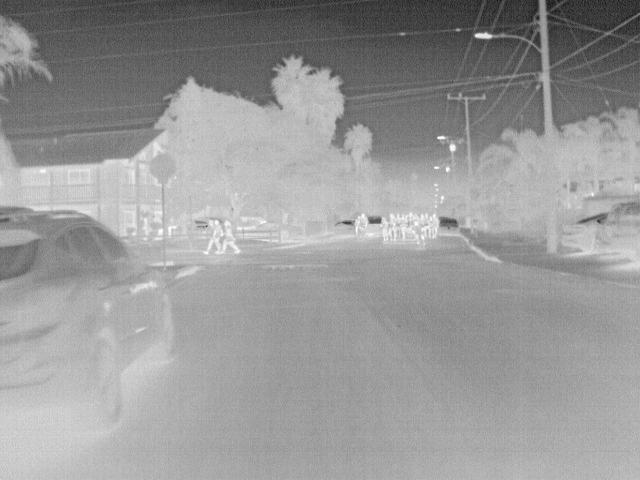car: (1, 205, 178, 433), (605, 200, 637, 262), (561, 211, 606, 255), (254, 221, 299, 240), (437, 216, 459, 235)
person: (202, 218, 223, 256), (221, 218, 242, 254), (412, 219, 428, 245), (378, 215, 392, 242), (431, 212, 444, 239), (353, 215, 366, 234), (358, 211, 371, 229)
